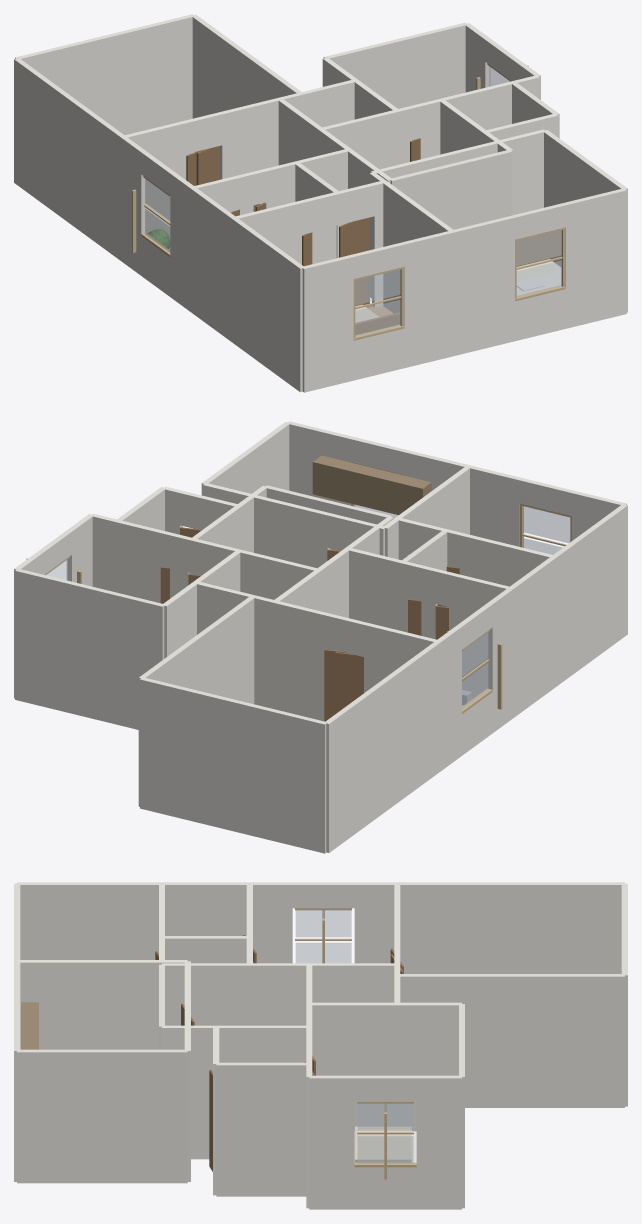
Rendered from test-fixed3.glb.
3 views of the same model, one above another, from view 1: azimuth 30°, elevation 25°; view 2: azimuth 150°, elevation 25°; view 3: azimuth 270°, elevation 25° (orthographic). The views are drawn at different scales.
Visible parts, largest first — view 1: Wall_kitchen_front, Wall_bedroom_1_front, Wall_balcony_left, Wall_balcony_back, Wall_bedroom_1_left, Wall_bedroom_2_back, Wall_living_room_left, Wall_bedroom_1_back, Wall_stairs_front, Wall_balcony_front, Wall_balcony_right, Wall_bathroom_1_left (+32 smaller); view 2: Wall_balcony_back, Wall_bedroom_2_back, Wall_balcony_left, Wall_bedroom_1_left, Wall_living_room_back, Wall_living_room_left, Wall_balcony_right, Wall_bedroom_2_front, Wall_bedroom_1_front, Wall_kitchen_back, Wall_living_room_front, Wall_bathroom_1_left (+27 smaller); view 3: Wall_balcony_right, Wall_kitchen_right, Wall_balcony_left, Wall_bedroom_2_right, Wall_bathroom_2_right, Wall_kitchen_left, Wall_bedroom_1_left, Wall_bedroom_2_left, Wall_living_room_left, Wall_hallway_right, Wall_living_room_right, Wall_stairs_right (+20 smaller).
Boxes of the visible parts, x1,y1,x2,y2 form: Wall_kitchen_front: [453, 188, 626, 355]; Wall_bedroom_1_front: [302, 231, 453, 392]; Wall_balcony_left: [14, 58, 124, 260]; Wall_balcony_back: [15, 14, 194, 134]; Wall_bedroom_1_left: [232, 217, 304, 392]; Wall_bedroom_2_back: [323, 22, 467, 108]; Wall_living_room_left: [121, 136, 193, 311]; Wall_bedroom_1_back: [234, 180, 384, 307]; Wall_stairs_front: [390, 150, 512, 229]; Wall_balcony_front: [124, 95, 302, 249]; Wall_balcony_right: [192, 15, 301, 118]; Wall_bathroom_1_left: [190, 187, 235, 341]; Wall_balcony_back: [140, 678, 326, 853]; Wall_bedroom_2_back: [15, 569, 164, 729]; Wall_balcony_left: [324, 641, 440, 852]; Wall_bedroom_1_left: [553, 504, 627, 686]; Wall_living_room_back: [273, 600, 439, 721]; Wall_living_room_left: [437, 588, 513, 770]; Wall_balcony_right: [138, 596, 254, 806]; Wall_bedroom_2_front: [91, 513, 240, 603]; Wall_bedroom_1_front: [468, 465, 626, 546]; Wall_kitchen_back: [202, 483, 386, 568]; Wall_living_room_front: [349, 548, 510, 699]; Wall_bathroom_1_left: [510, 556, 556, 717]; Wall_balcony_right: [397, 974, 624, 1107]; Wall_kitchen_right: [17, 1049, 187, 1183]; Wall_balcony_left: [397, 882, 624, 973]; Wall_bedroom_2_right: [309, 1075, 461, 1209]; Wall_bathroom_2_right: [216, 1062, 309, 1196]; Wall_kitchen_left: [17, 960, 187, 1049]; Wall_bedroom_1_left: [17, 882, 161, 959]; Wall_bedroom_2_left: [312, 1002, 461, 1131]; Wall_living_room_left: [250, 882, 397, 963]; Wall_hallway_right: [312, 1002, 397, 1130]; Wall_living_room_right: [250, 963, 394, 1025]; Wall_stairs_right: [162, 1025, 309, 1159].
Size of the model in its own units: 10.08 by 2.8 by 11.87.
